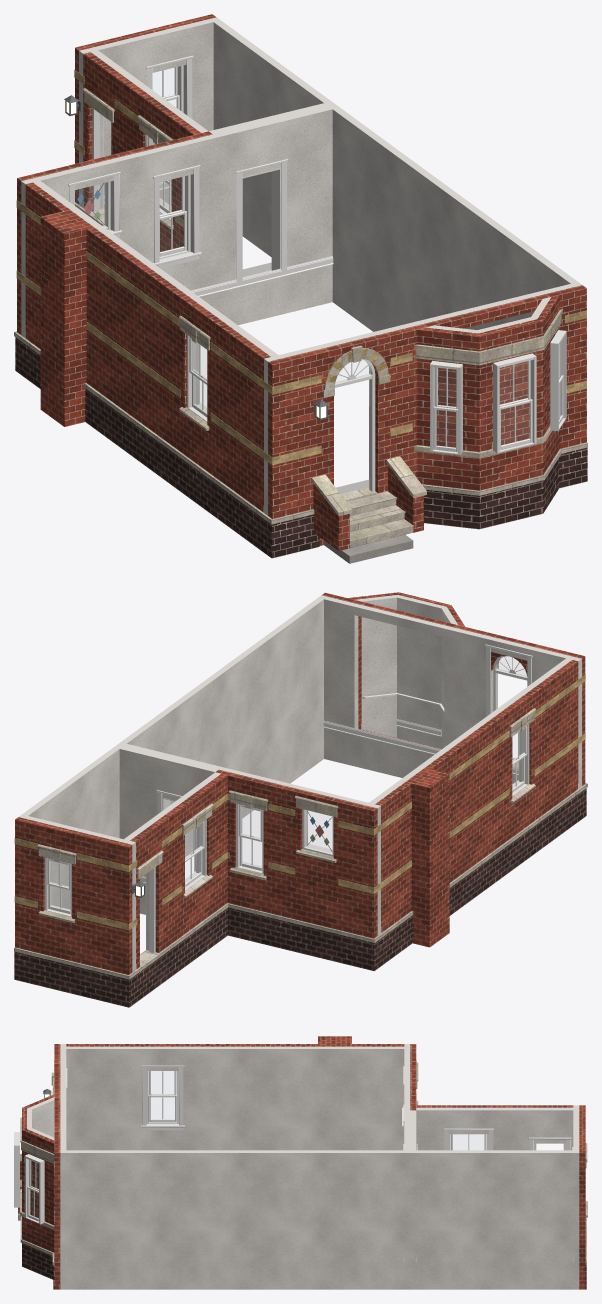
The model's file is shell_0_l.glb.
3 views of the same model, one above another, from view 1: azimuth 30°, elevation 25°; view 2: azimuth 150°, elevation 25°; view 3: azimuth 270°, elevation 25° (orthographic). The views are drawn at different scales.
Parts seen in each view (by area): view 1: shell_0_l_brick, shell_0_l_plaster, shell_0_l_brick_d, shell_0_l_stone_c, shell_0_l_trim, shell_0_l_glass, shell_0_l_frame, shell_0_l_brick_y, shell_0_l_sash, molduras, shell_0_l_conc_s; view 2: shell_0_l_brick, shell_0_l_plaster, shell_0_l_brick_d, shell_0_l_stone_c, shell_0_l_brick_y, shell_0_l_glass, shell_0_l_frame, shell_0_l_trim, shell_0_l_sash, molduras; view 3: shell_0_l_plaster, shell_0_l_brick, shell_0_l_trim, shell_0_l_frame, shell_0_l_glass, shell_0_l_stone_c, shell_0_l_sash, shell_0_l_brick_d.
Boxes of the visible parts, x1,y1,x2,y2 form: shell_0_l_brick: [17, 14, 586, 550]; shell_0_l_plaster: [21, 17, 581, 515]; shell_0_l_brick_d: [15, 337, 587, 558]; shell_0_l_stone_c: [14, 88, 587, 547]; shell_0_l_trim: [68, 55, 375, 491]; shell_0_l_glass: [75, 68, 561, 447]; shell_0_l_frame: [92, 65, 566, 454]; shell_0_l_brick_y: [16, 69, 586, 465]; shell_0_l_sash: [147, 67, 563, 452]; molduras: [25, 181, 369, 512]; shell_0_l_conc_s: [324, 534, 413, 563]; shell_0_l_brick: [15, 592, 585, 974]; shell_0_l_plaster: [19, 595, 581, 972]; shell_0_l_brick_d: [14, 788, 586, 1007]; shell_0_l_stone_c: [14, 662, 587, 979]; shell_0_l_brick_y: [14, 674, 585, 930]; shell_0_l_glass: [50, 657, 526, 909]; shell_0_l_frame: [44, 724, 529, 952]; shell_0_l_trim: [50, 644, 532, 949]; shell_0_l_sash: [47, 725, 527, 914]; molduras: [136, 719, 578, 969]; shell_0_l_plaster: [27, 1044, 579, 1289]; shell_0_l_brick: [18, 1036, 585, 1289]; shell_0_l_trim: [66, 1065, 573, 1150]; shell_0_l_frame: [14, 1071, 566, 1224]; shell_0_l_glass: [29, 1071, 483, 1217]; shell_0_l_stone_c: [20, 1062, 587, 1265]; shell_0_l_sash: [27, 1071, 486, 1221]; shell_0_l_brick_d: [22, 1243, 586, 1289].
Size of the model in its own units: 6.85 by 3.75 by 14.26.
17 materials, 6 textured.
